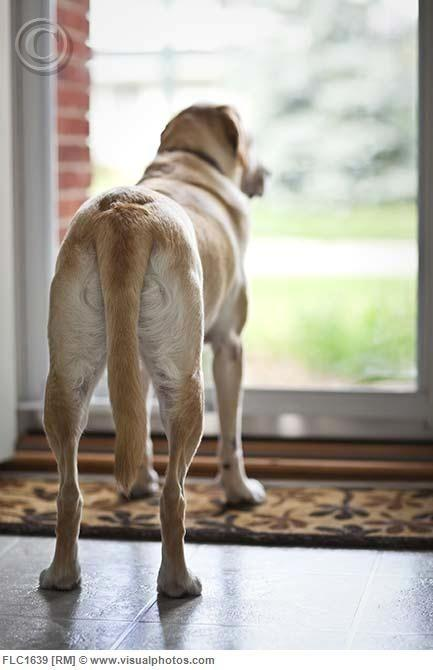adult_dog: (40, 95, 275, 599)
